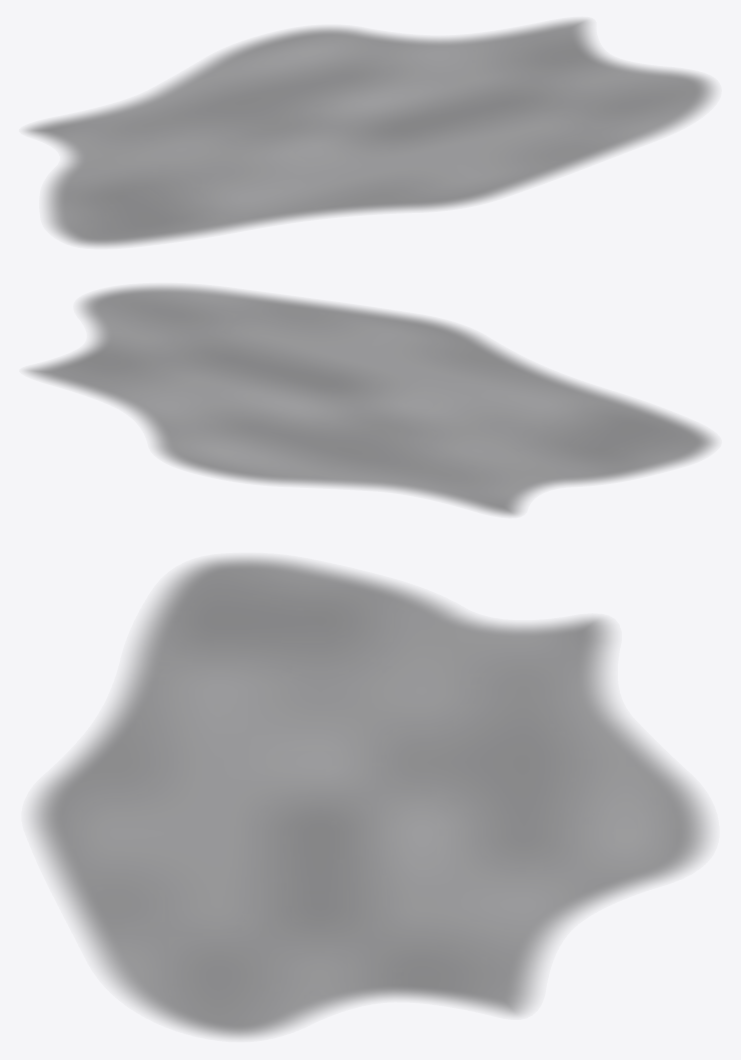
The model's file is puddle.glb.
The picture shows the model from 3 angles, top to bottom: view 1: azimuth 30°, elevation 25°; view 2: azimuth 150°, elevation 25°; view 3: azimuth 270°, elevation 25°; orthographic projection. The views are drawn at different scales.
Parts seen in each view (by area): view 1: Rainwater; view 2: Rainwater; view 3: Rainwater.
Boxes of the visible parts, left/top/right/bottom form: Rainwater: left=26, top=20, right=714, bottom=246; Rainwater: left=27, top=286, right=714, bottom=515; Rainwater: left=32, top=557, right=708, bottom=1037.
Bounding box in the file's own units: 1.89 × 0 × 1.14.
1 material, 1 textured.
